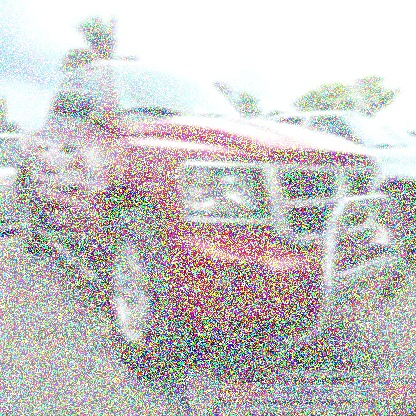Vehicle: (13, 59, 411, 383)
